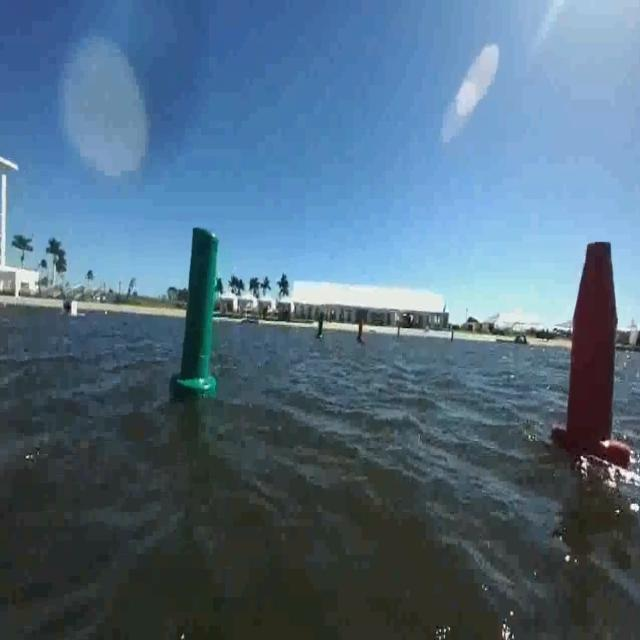green-column-buoy: (175, 228, 222, 401), (316, 311, 327, 340)
red-column-buoy: (552, 240, 628, 468), (356, 318, 366, 344)
